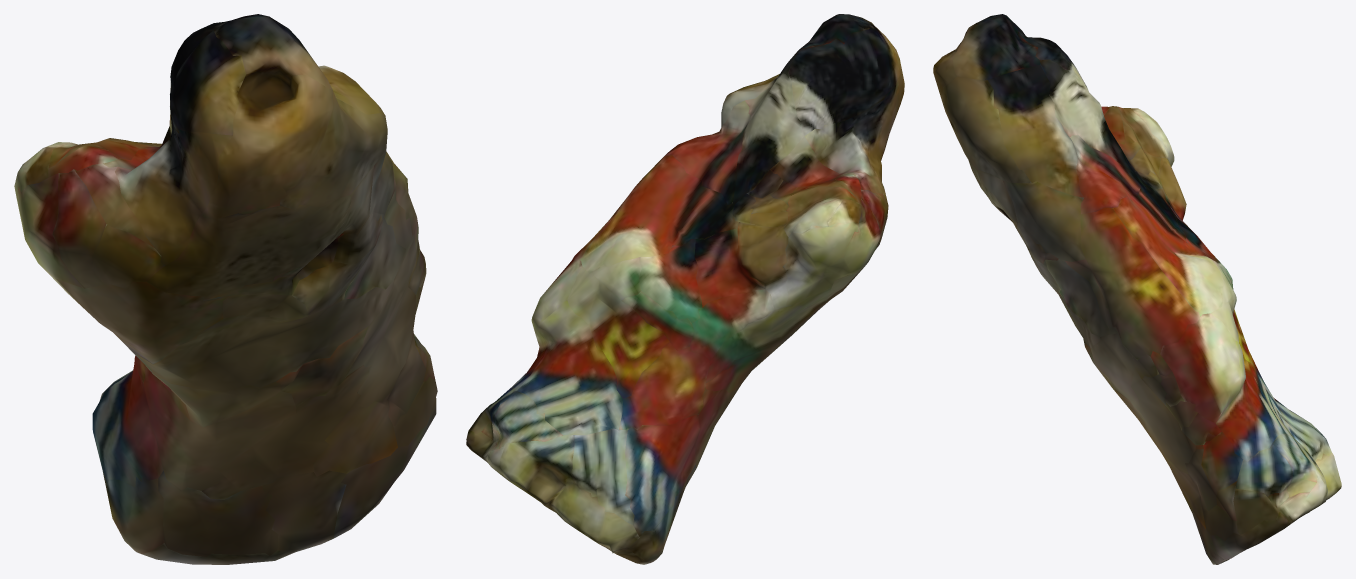
File: hall.glb
The picture shows the model from 3 angles, left to right: view 1: azimuth 30°, elevation 25°; view 2: azimuth 150°, elevation 25°; view 3: azimuth 270°, elevation 25°; orthographic projection. The views are drawn at different scales.
Size of the model in its own units: 0.5692 by 0.782 by 0.6049.
Materials: 1 (1 with a texture image).
